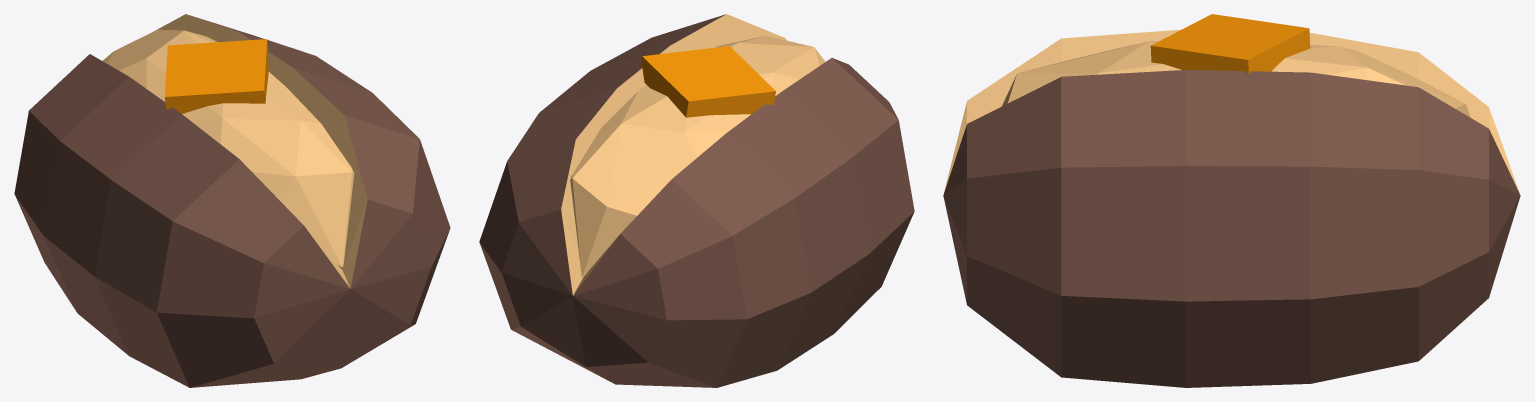
The model's file is Potato_01.obj.
3 views of the same model, side by side, from view 1: azimuth 30°, elevation 25°; view 2: azimuth 150°, elevation 25°; view 3: azimuth 270°, elevation 25° (orthographic). The views are drawn at different scales.
Parts seen in each view (by area): view 1: Circle; view 2: Circle; view 3: Circle.
Part boxes in pixels (x1,y1,x2,y2): Circle: (14, 14, 450, 387); Circle: (479, 14, 914, 387); Circle: (943, 14, 1520, 387).
Bounding box in the file's own units: 11.84 × 9.97 × 16.51.
